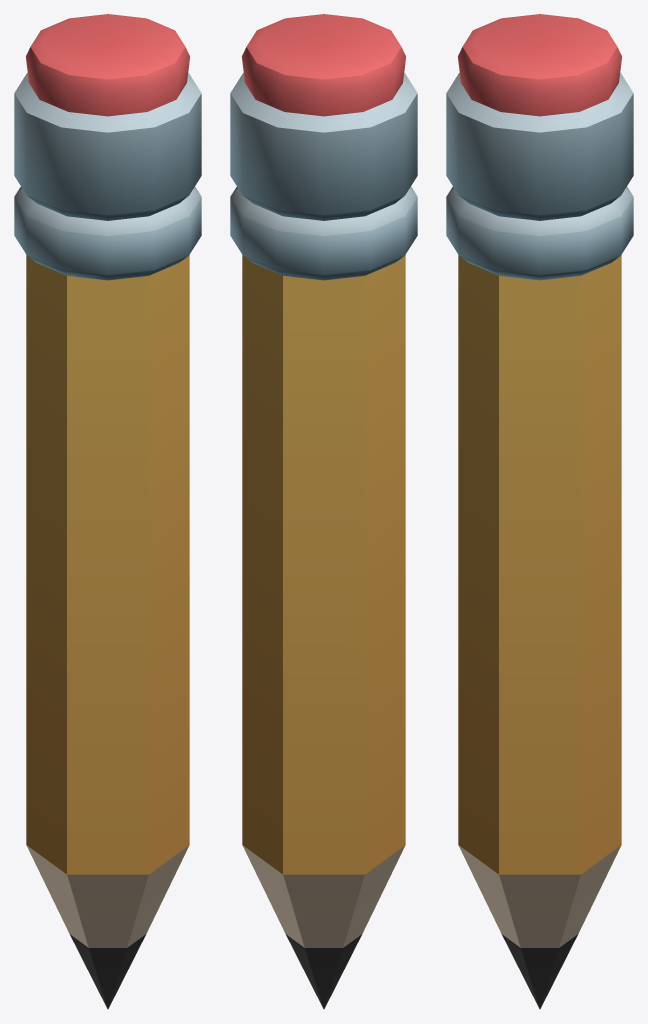
The model's file is pencil_b_long.glb.
3 renders of one model, left to right at view 1: azimuth 30°, elevation 25°; view 2: azimuth 150°, elevation 25°; view 3: azimuth 270°, elevation 25°, orthographic.
Parts seen in each view (by area): view 1: pencil_B_long; view 2: pencil_B_long; view 3: pencil_B_long.
Part boxes in pixels (x1,y1,x2,y2): pencil_B_long: (14, 14, 201, 1009); pencil_B_long: (230, 14, 417, 1009); pencil_B_long: (446, 14, 633, 1009).
Bounding box in the file's own units: 0.0683 × 0.3891 × 0.0683.
Materials: 1 (1 with a texture image).
